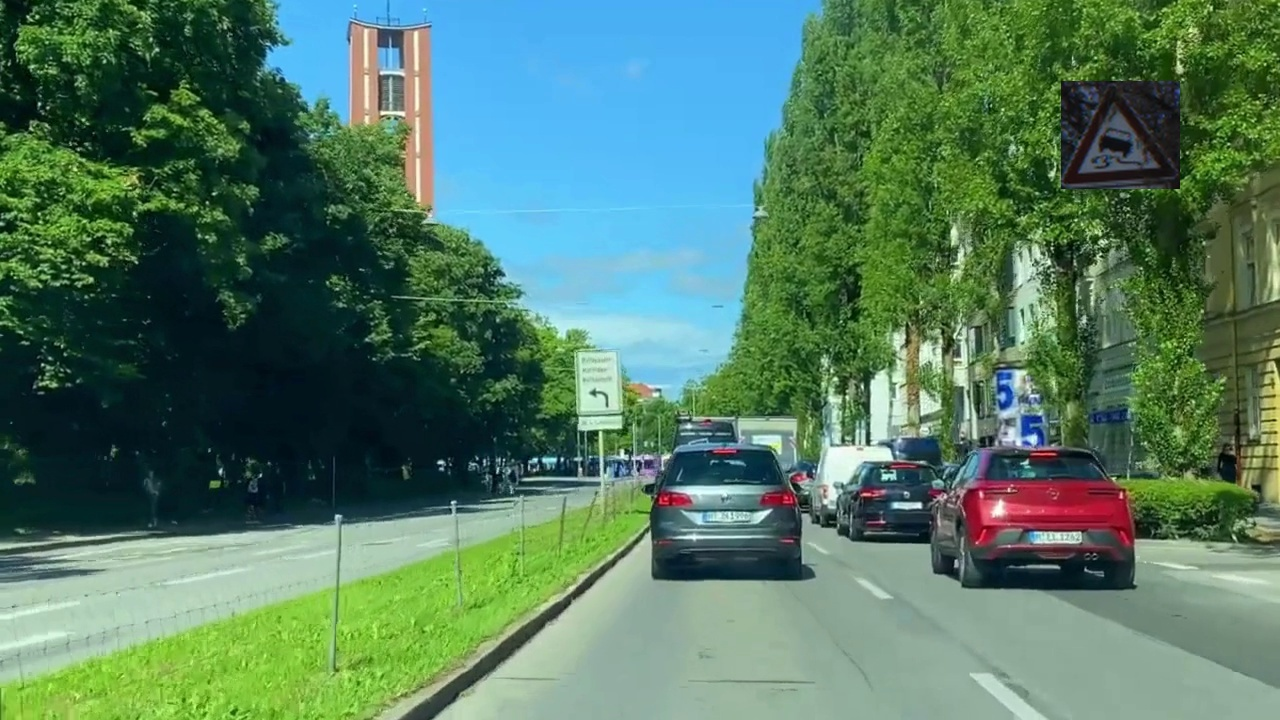Slippery: (1061, 81, 1180, 189)
